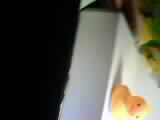duck: (108, 69, 151, 117)
